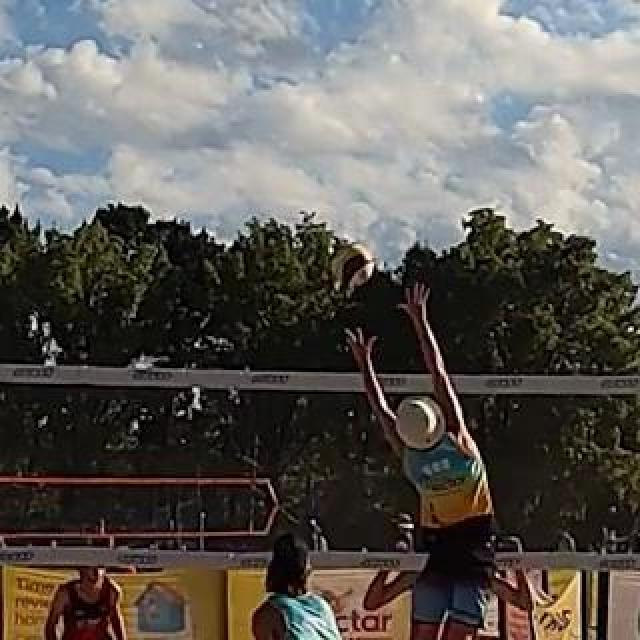volleyball: (330, 243, 374, 287)
